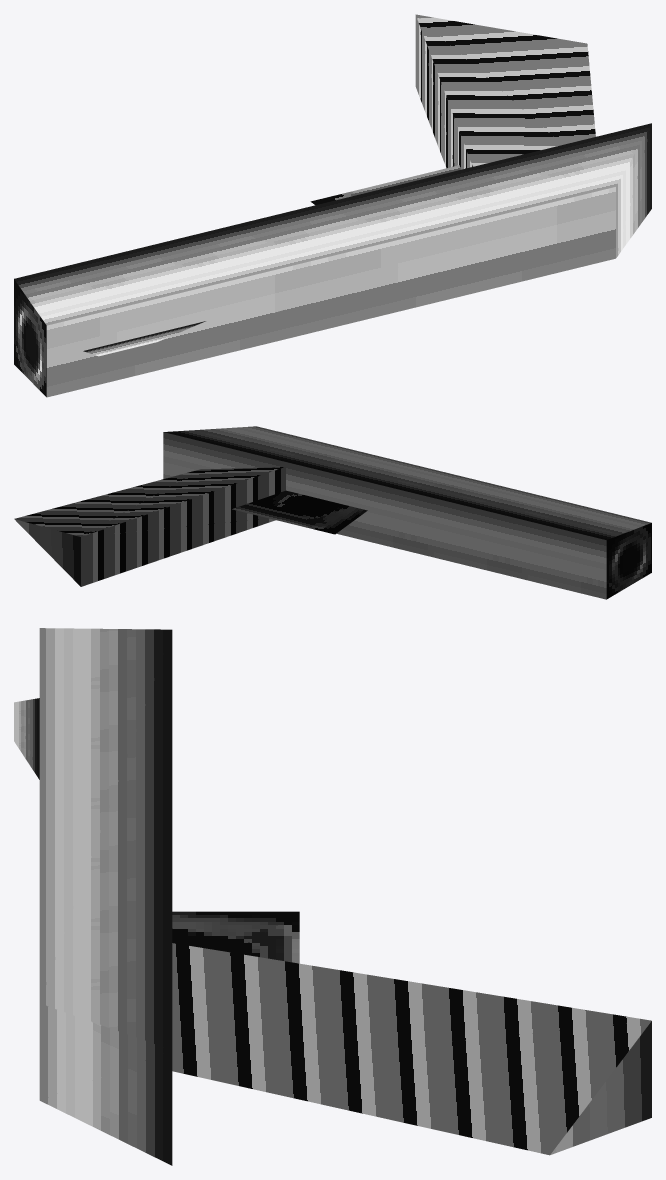
Rendered from Pchrtt33Z.obj.
The picture shows the model from 3 angles, top to bottom: view 1: azimuth 30°, elevation 25°; view 2: azimuth 150°, elevation 25°; view 3: azimuth 270°, elevation 25°; orthographic projection. The views are drawn at different scales.
Bounding box in the file's own units: 223 × 25 × 125.
5 materials, 5 textured.
